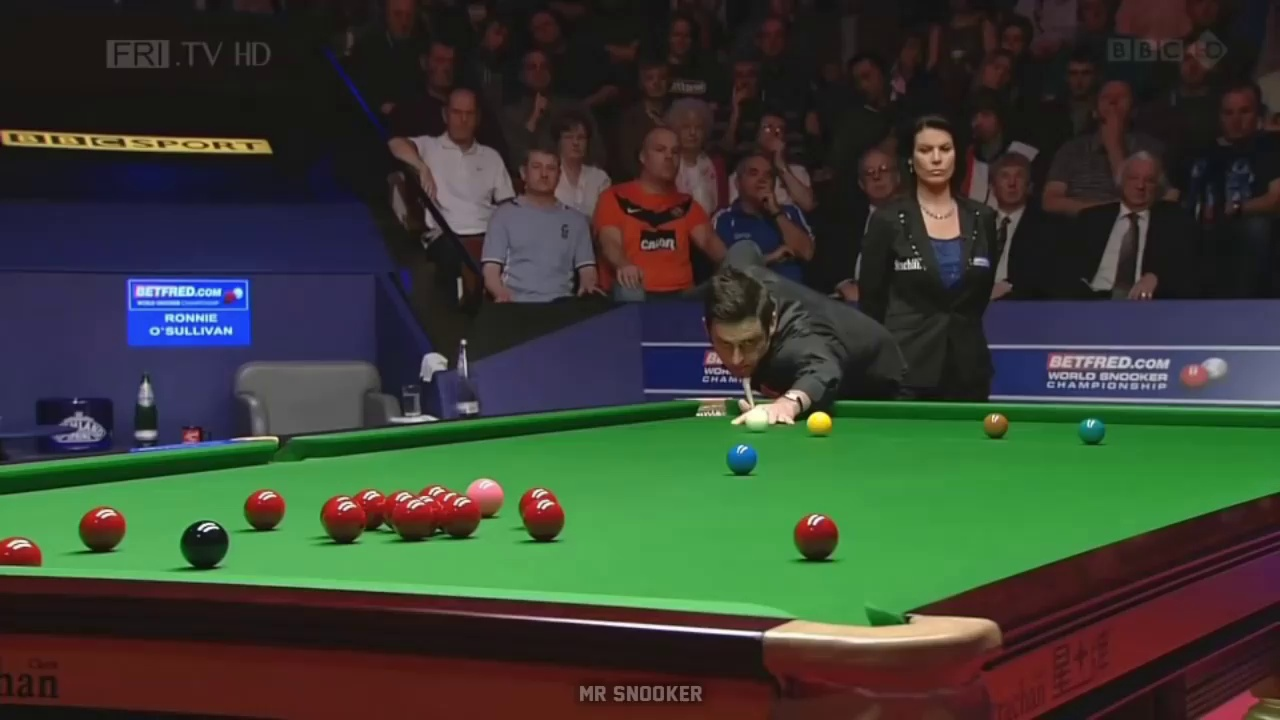black: (180, 521, 229, 569)
blue: (728, 444, 758, 473)
brown: (983, 413, 1010, 441)
green: (1079, 417, 1104, 445)
pink: (466, 478, 505, 502)
red: (76, 504, 126, 551), (792, 516, 838, 558), (394, 495, 435, 538), (523, 497, 563, 540), (241, 491, 286, 529), (324, 501, 364, 543), (440, 496, 481, 536)
yellow: (808, 411, 831, 436)
